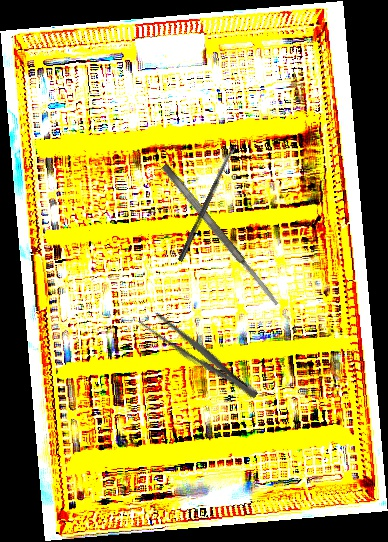Dressing Forceps: (135, 306, 264, 405)
Spatula Surgical: (160, 162, 281, 308)
Surgical Spoon: (177, 145, 237, 263)
